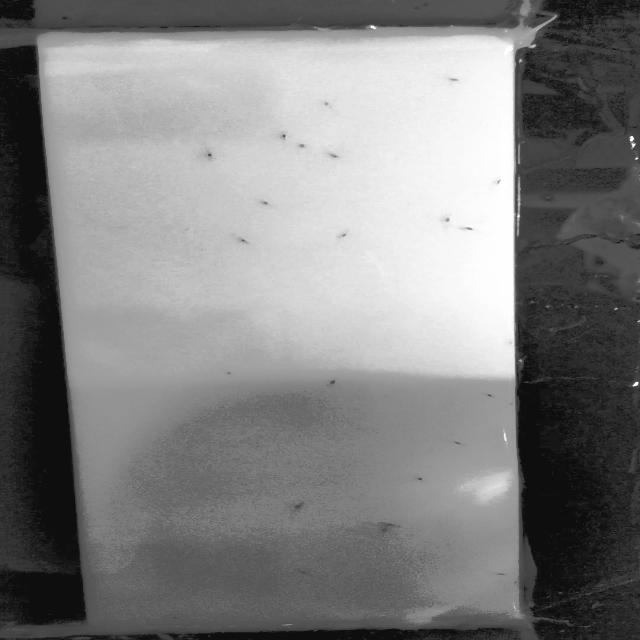shrimp: (230, 231, 266, 250), (212, 362, 244, 382), (322, 371, 348, 390), (454, 222, 484, 236), (284, 497, 312, 510), (477, 390, 507, 402), (271, 128, 295, 143), (255, 197, 280, 211), (443, 435, 469, 448), (439, 70, 463, 84), (486, 174, 506, 188), (329, 228, 352, 240), (197, 149, 222, 160), (323, 146, 340, 162), (285, 141, 315, 150), (488, 568, 508, 581), (380, 520, 407, 529), (444, 210, 458, 225), (295, 566, 312, 578), (406, 474, 431, 482), (379, 530, 399, 536), (316, 98, 336, 104)
